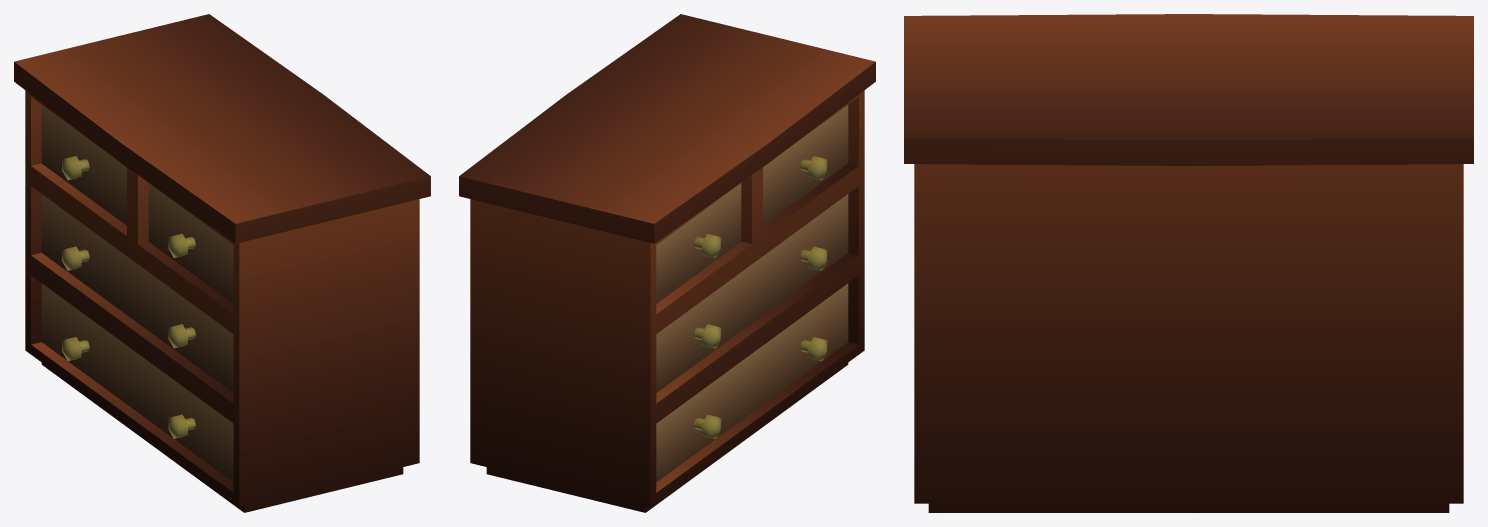
The model's file is Dresser.FBX.
The picture shows the model from 3 angles, left to right: view 1: azimuth 30°, elevation 25°; view 2: azimuth 150°, elevation 25°; view 3: azimuth 270°, elevation 25°; orthographic projection. The views are drawn at different scales.
Visible parts, largest first — view 1: Dresser; view 2: Dresser; view 3: Dresser.
Part boxes in pixels (<box>): Dresser: <box>14,14,430,512</box>; Dresser: <box>459,14,875,512</box>; Dresser: <box>904,14,1473,512</box>.
Bounding box in the file's own units: 21.65 × 30.08 × 40.24.
1 material, 1 textured.
